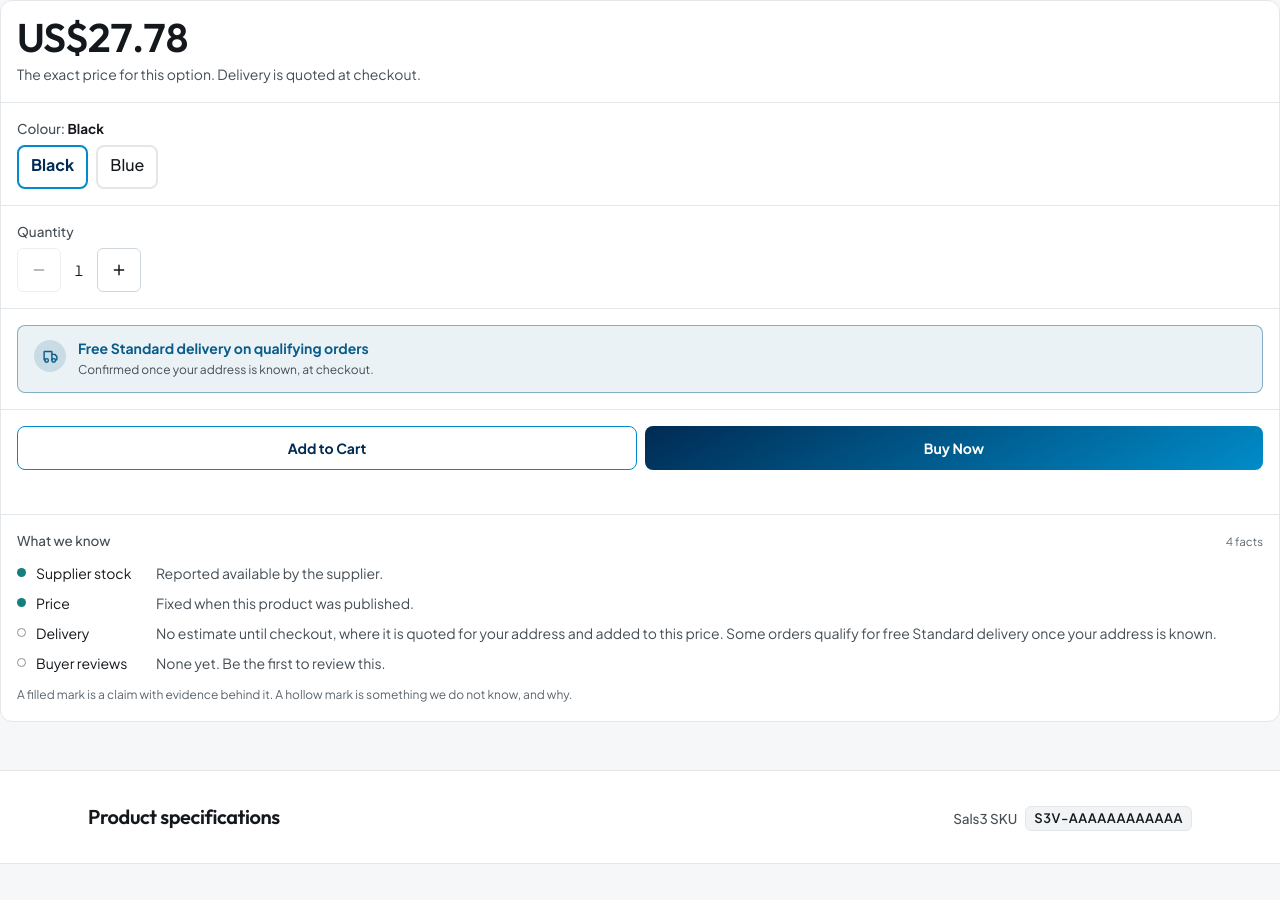
the printed code and the chosen option › reprints the code when the buyer picks another option
This screenshot has width=1280, height=900.
expect the text "S3V-AAAAAAAAAAAA" is shown: met, box [1025, 806, 1192, 831]
Click the link "Blue" at (127, 167), box [96, 145, 158, 189]
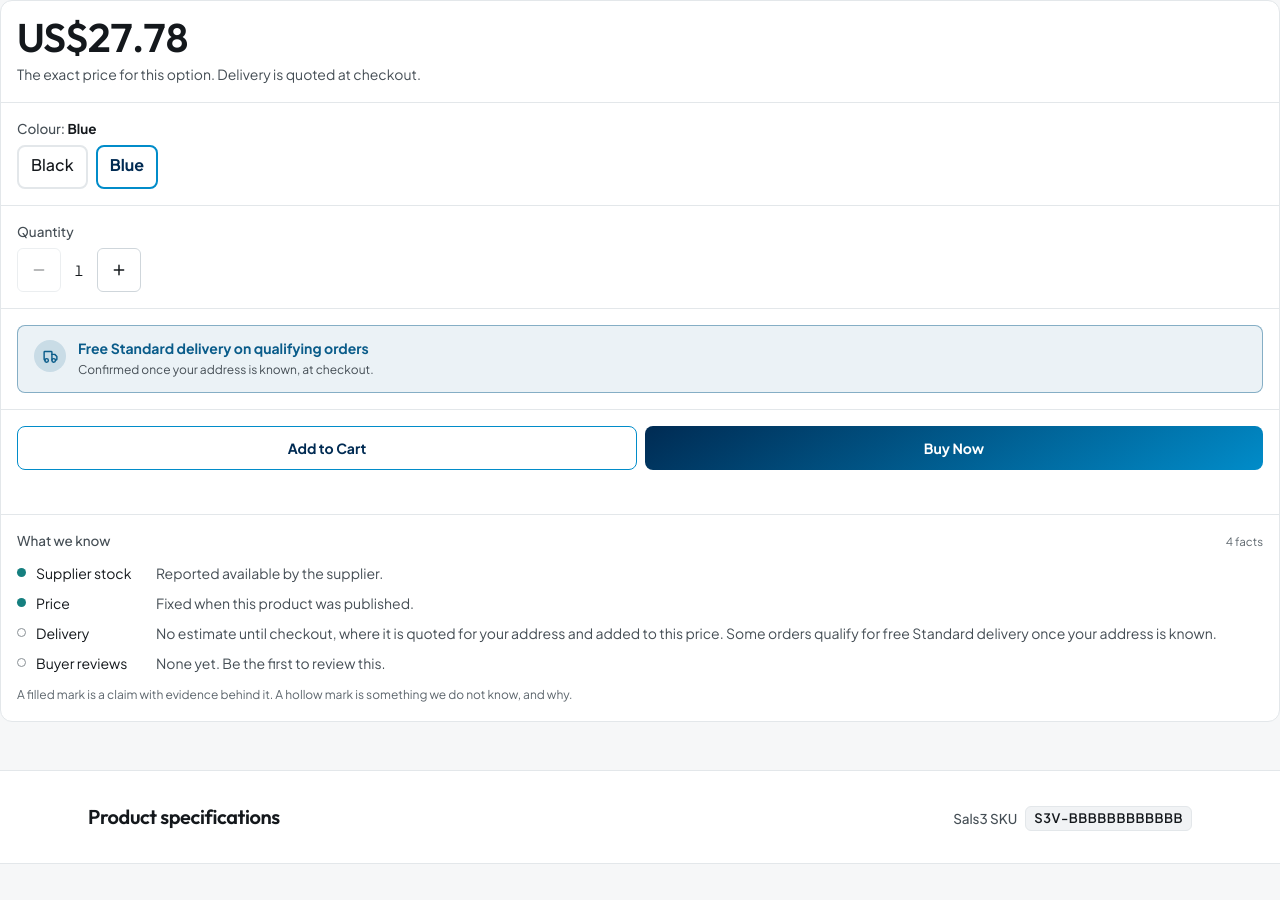
expect the text "S3V-BBBBBBBBBBBB" is shown: met, box [1025, 806, 1192, 831]
expect the text "S3V-AAAAAAAAAAAA" is gone: met
